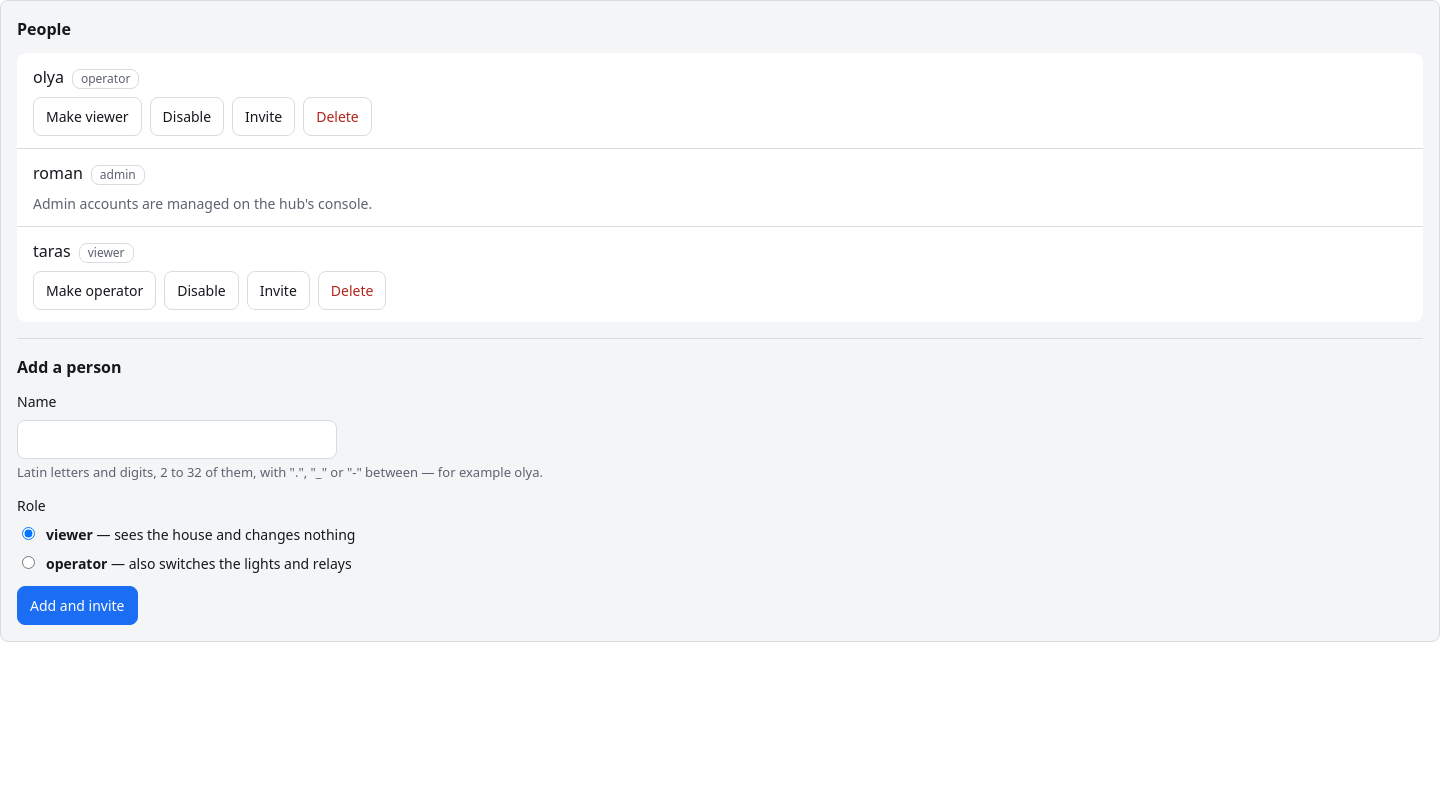
Scenario: PeoplePanel › changing an account › says what the hub said when it refuses
What coordinates should you click on to do the following:
click the 1st button "Disable"
I would click on:
 (187, 116)
Its box is [150,97,224,136].
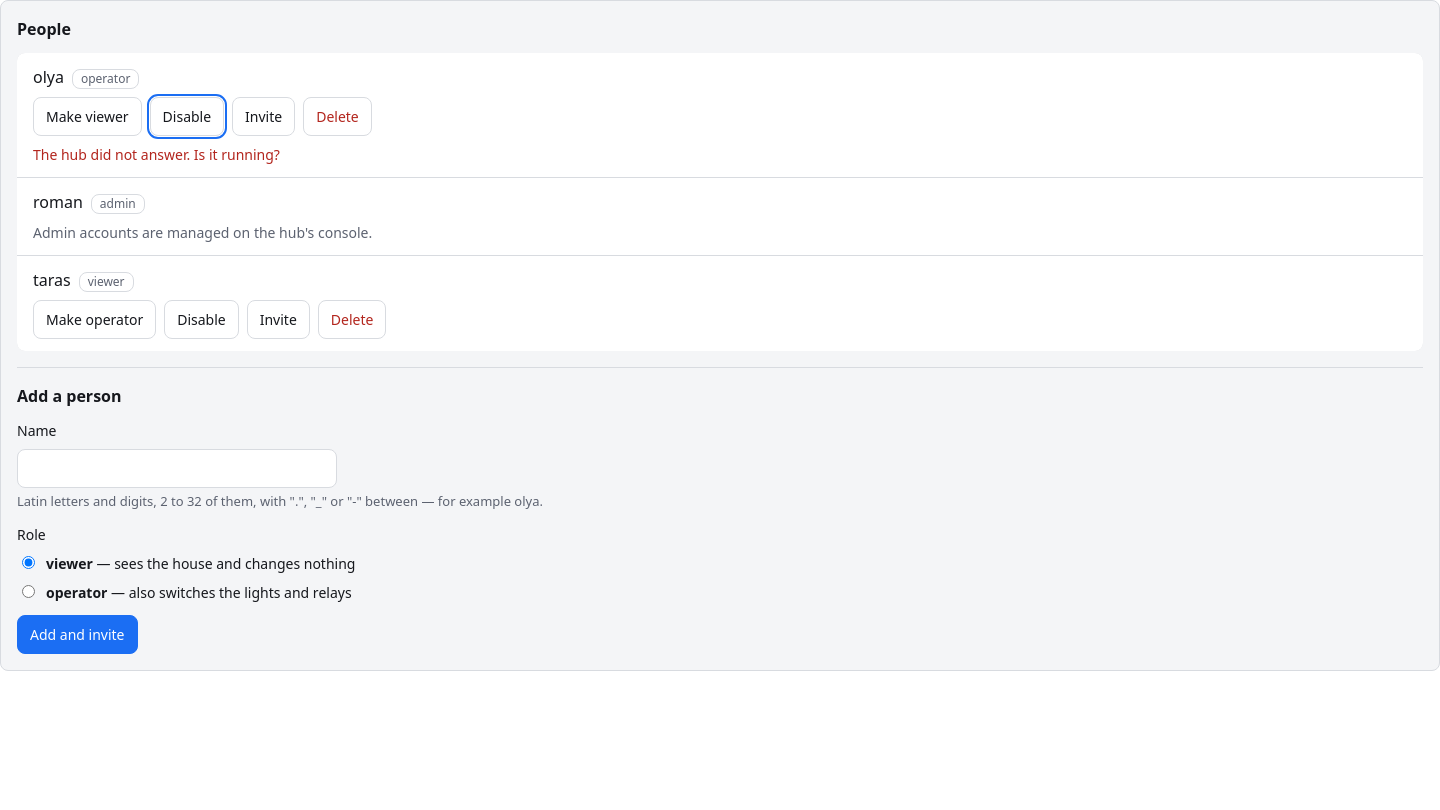
Now the message shows "The hub did not answer", box [33,145,280,164]
